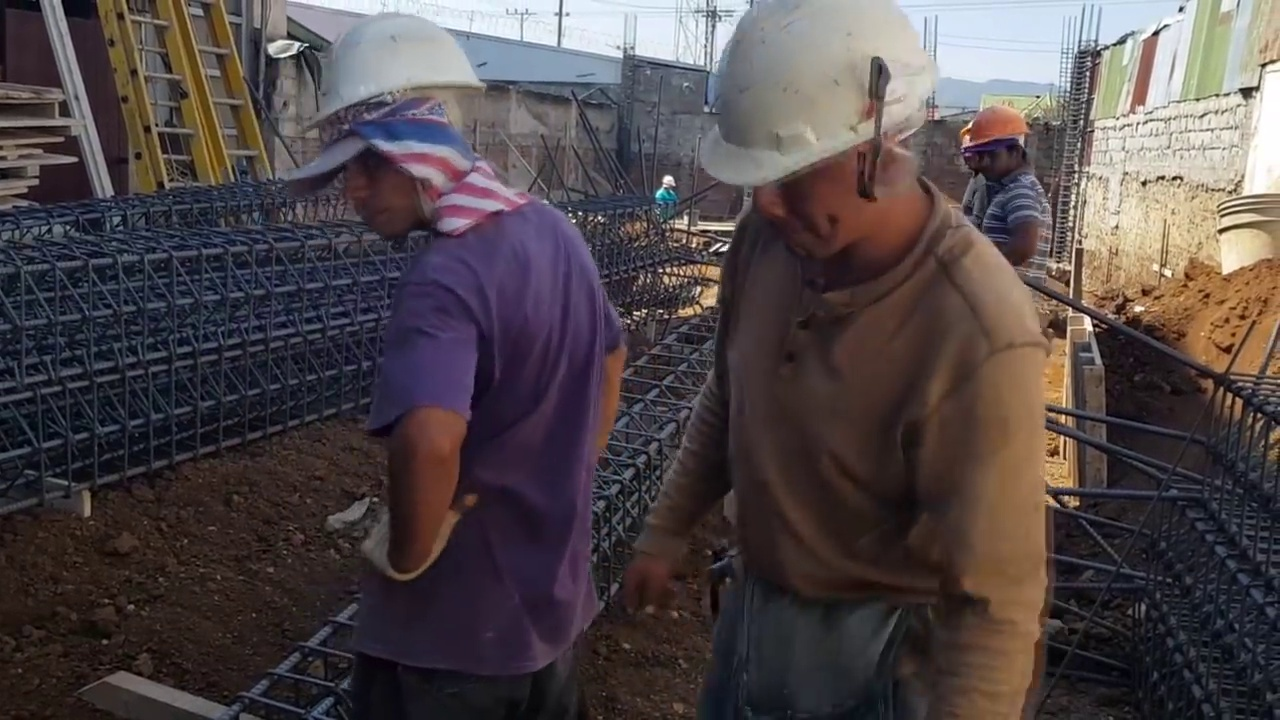helmet: (687, 8, 943, 189), (309, 17, 483, 138), (959, 106, 1031, 148), (661, 176, 676, 189)
helmet-on: (691, 7, 950, 288), (286, 18, 502, 250), (963, 108, 1032, 192), (660, 174, 677, 192)
person: (625, 13, 1049, 718), (301, 29, 607, 688), (958, 99, 1056, 299), (654, 176, 676, 220)
